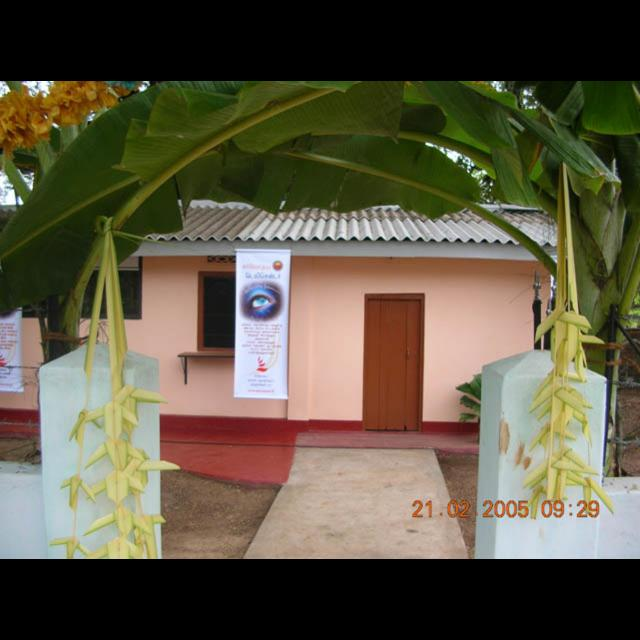Flower: (0, 81, 116, 159)
